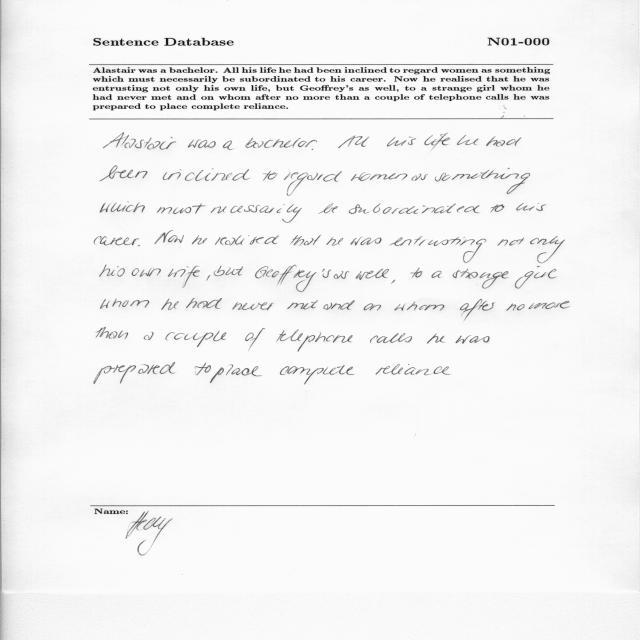word: (390, 236, 487, 263), (435, 168, 530, 194), (255, 265, 331, 292), (94, 362, 175, 384), (277, 329, 353, 352), (211, 204, 302, 223), (284, 171, 342, 196), (349, 203, 480, 214), (280, 365, 354, 384), (103, 133, 176, 150), (163, 168, 250, 181), (453, 269, 509, 289), (166, 331, 227, 347), (515, 266, 557, 289), (530, 236, 565, 263), (210, 365, 262, 383), (246, 137, 317, 148), (460, 299, 495, 320), (100, 166, 147, 181), (168, 266, 200, 288), (215, 236, 279, 246), (376, 364, 431, 375), (157, 203, 206, 214), (101, 298, 149, 309), (351, 172, 407, 181), (100, 202, 145, 213), (395, 302, 445, 311), (245, 328, 265, 349), (370, 333, 412, 343), (424, 133, 450, 149), (95, 236, 140, 245), (356, 268, 389, 280), (186, 298, 222, 309), (154, 231, 184, 244), (97, 328, 129, 340), (338, 136, 369, 148), (486, 137, 521, 147), (290, 235, 321, 246), (232, 303, 274, 311), (528, 301, 570, 309), (323, 300, 355, 310), (456, 335, 490, 344), (100, 265, 125, 277), (387, 137, 416, 147), (214, 266, 243, 276), (287, 301, 318, 310), (131, 268, 161, 277), (351, 237, 382, 245), (497, 237, 524, 246), (516, 203, 546, 211), (188, 140, 216, 148), (457, 135, 479, 145), (318, 203, 338, 214), (161, 299, 179, 310), (195, 363, 211, 375), (427, 334, 445, 344), (433, 366, 450, 375), (192, 235, 207, 245), (263, 171, 277, 181), (327, 238, 344, 246), (364, 303, 381, 311), (506, 304, 525, 311), (491, 204, 505, 213), (334, 271, 349, 279), (411, 268, 423, 278), (411, 174, 428, 181), (223, 140, 234, 150), (144, 332, 154, 340), (431, 271, 442, 278), (207, 275, 210, 281), (391, 280, 395, 284), (312, 149, 314, 150), (138, 245, 140, 246)
